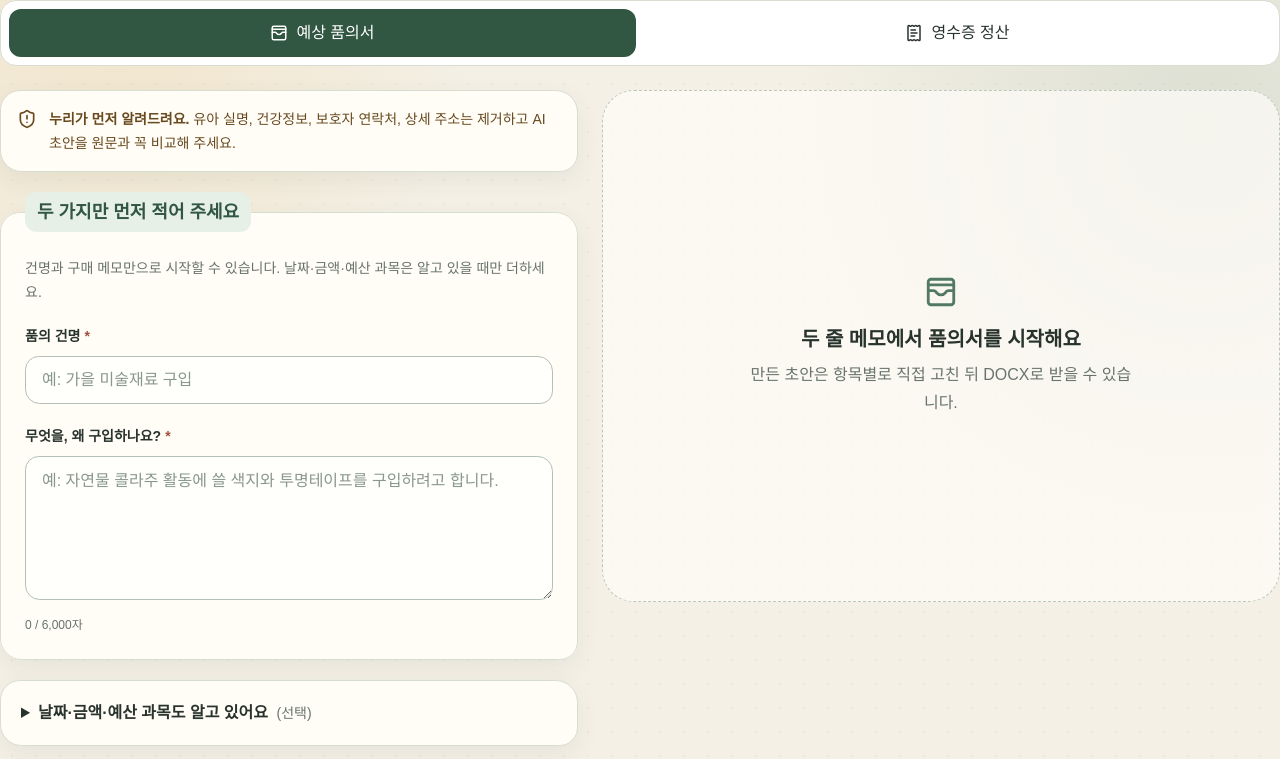
Test case: 품의·정산 작업 화면 › 건명과 한 줄 메모만으로 예상 품의서를 생성한다
Type "가을 미술재료 구입" into the field labelled "품의 건명*".
click(289, 380); type("가을 미술재료 구입")  # box [25, 356, 553, 404]
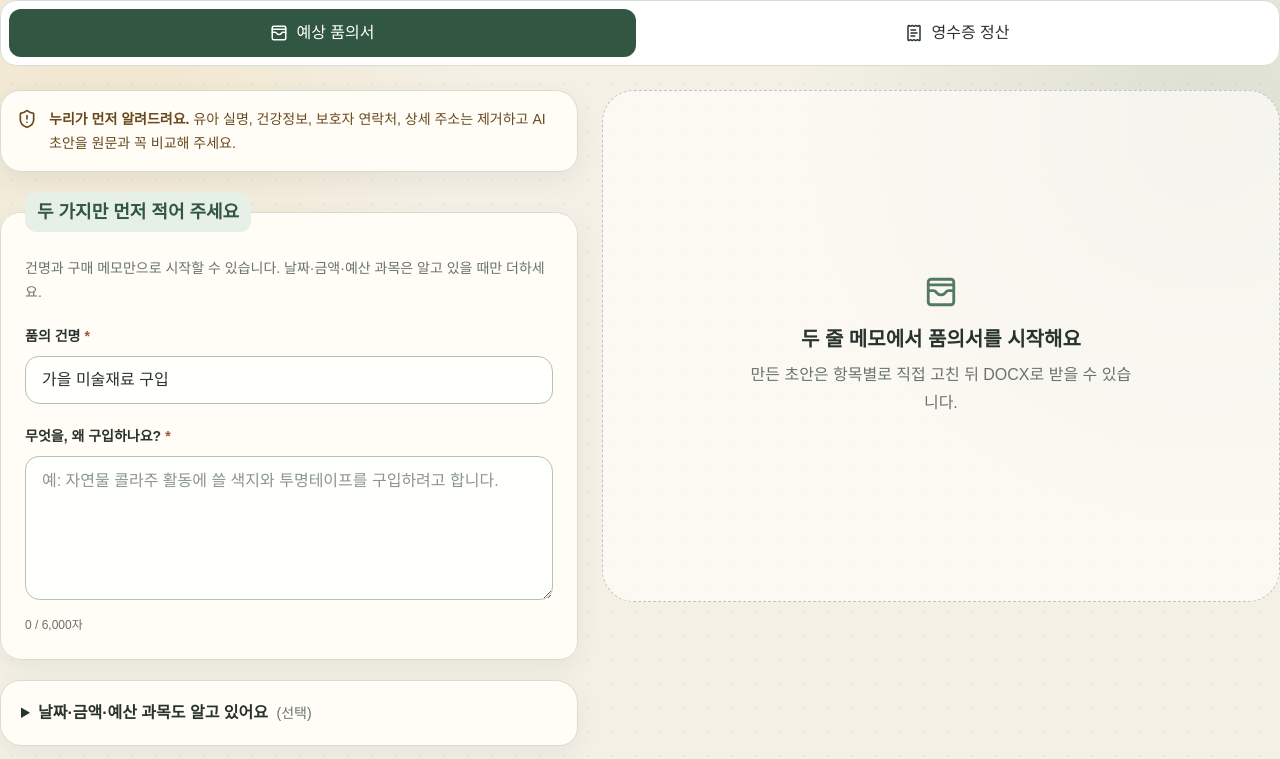
Type "자연물 콜라주 활동에 사용할 색지와 테이프를 구입합니다." into the text box labelled "무엇을, 왜 구입하나요?*".
click(289, 528); type("자연물 콜라주 활동에 사용할 색지와 테이프를 구입합니다.")  # box [25, 456, 553, 600]
(page scrolled)
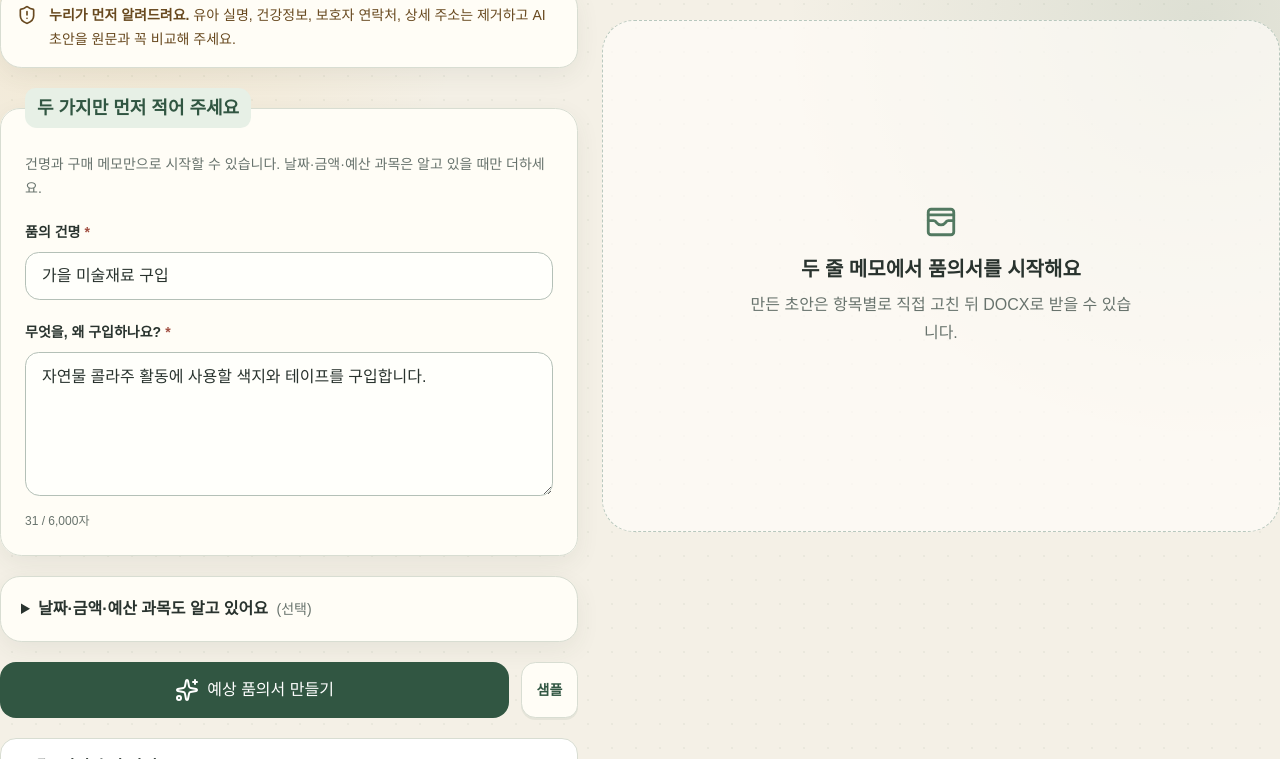
Click the button "예상 품의서 만들기".
click(255, 690)  # box [0, 662, 509, 718]
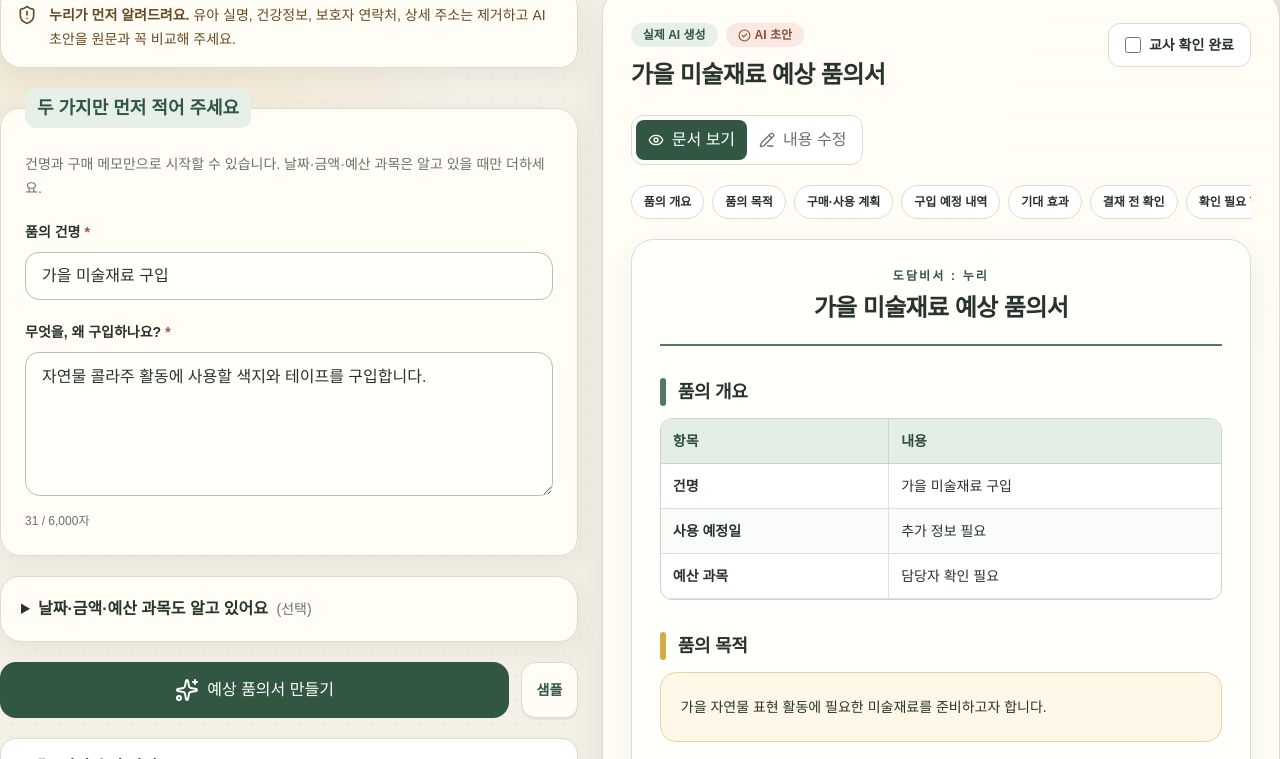
Now the heading "가을 미술재료 예상 품의서" below "실제 AI 생성" is shown, box [631, 61, 885, 88]
Now the text "가을 미술재료 구입" is shown, box [901, 478, 1012, 494]
